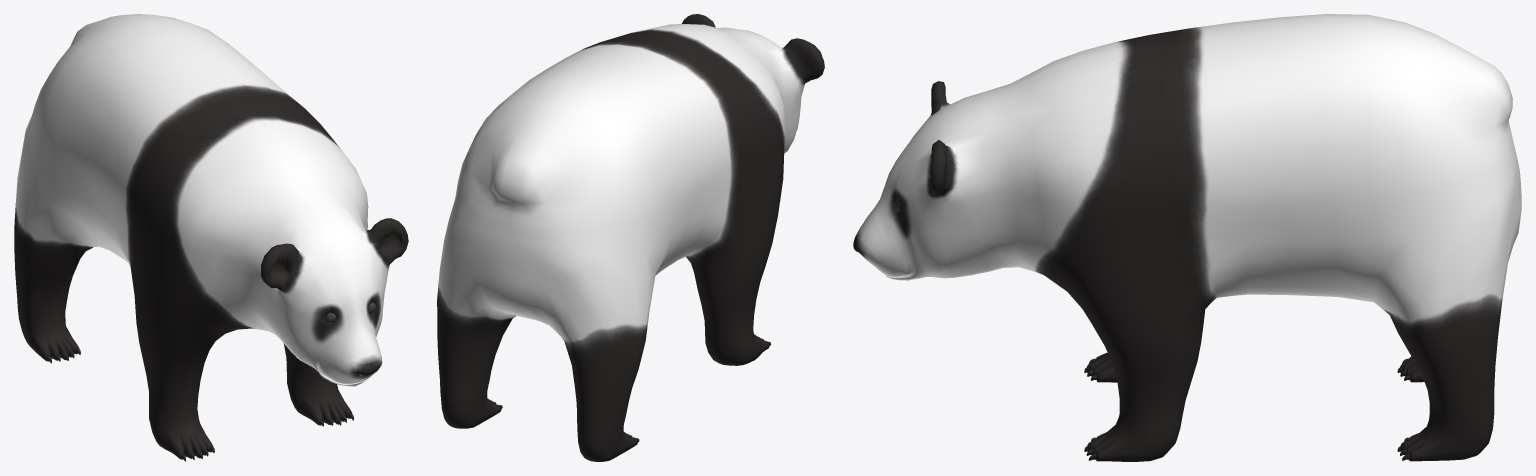
The model's file is giant-panda.glb.
3 renders of one model, left to right at view 1: azimuth 30°, elevation 25°; view 2: azimuth 150°, elevation 25°; view 3: azimuth 270°, elevation 25°, orthographic. The views are drawn at different scales.
Parts seen in each view (by area): view 1: Object_2; view 2: Object_2; view 3: Object_2.
Boxes of the visible parts, x1,y1,x2,y2 form: Object_2: (14, 14, 408, 461); Object_2: (437, 14, 824, 461); Object_2: (853, 14, 1521, 461).
Bounding box in the file's own units: 3.12 × 4.85 × 7.59.
2 materials, 1 textured.
